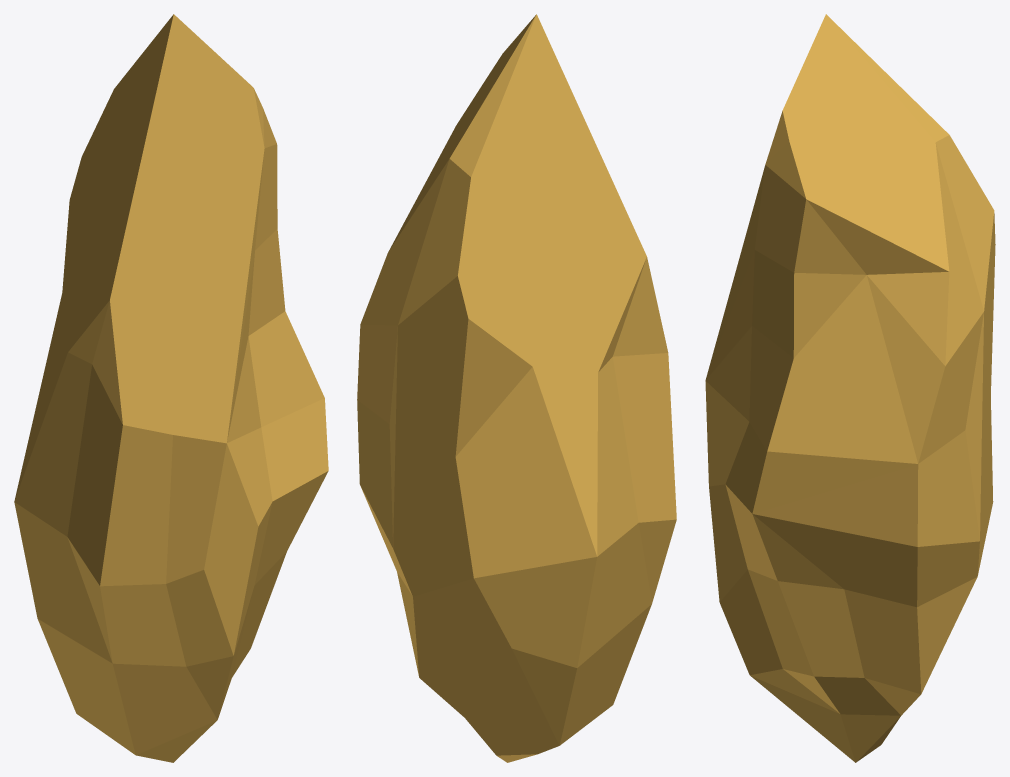
File: Loose Crystal 2.fbx
The picture shows the model from 3 angles, left to right: view 1: azimuth 30°, elevation 25°; view 2: azimuth 150°, elevation 25°; view 3: azimuth 270°, elevation 25°; orthographic projection. The views are drawn at different scales.
Visible parts, largest first — view 1: Loose Crystal 1.001; view 2: Loose Crystal 1.001; view 3: Loose Crystal 1.001.
Boxes of the visible parts, x1,y1,x2,y2 form: Loose Crystal 1.001: (14,14,328,762); Loose Crystal 1.001: (357,14,676,762); Loose Crystal 1.001: (705,14,995,762).
Size of the model in its own units: 10.64 by 31.27 by 11.08.
